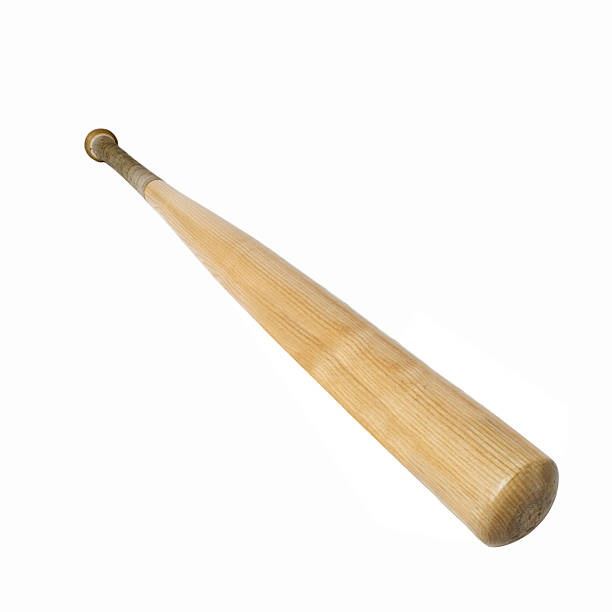bita: (88, 124, 558, 546)
